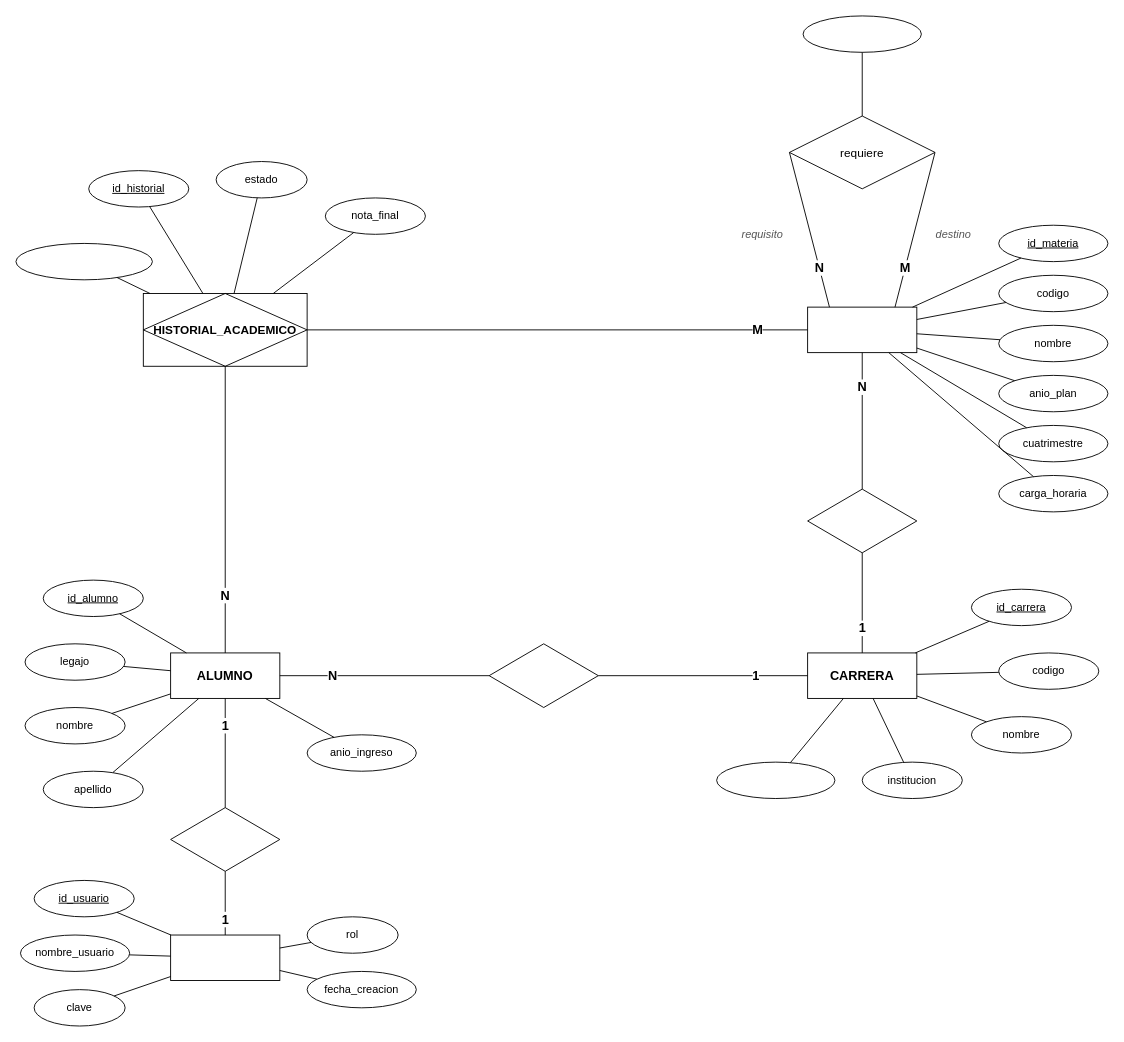
Image size: 1124x1042. Some labels were removed from this diagram. Each missing label, with the centre of its shape:
"contiene" belongs at (862,520).
"duracion_anios" belongs at (775,780).
"MATERIA" belongs at (862,329).
"pertenece" belongs at (543,675).
"tiene" belongs at (225,839).
"tipo_requisito" belongs at (861,33).
"ultima_modificacion" belongs at (83,261).
"USUARIO" belongs at (225,957).
